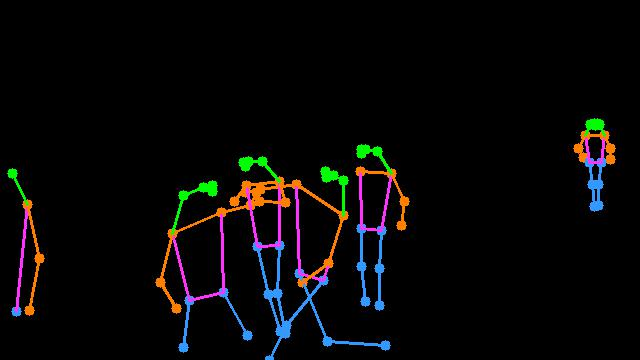normal: (351, 134, 413, 320), (564, 97, 628, 228)
